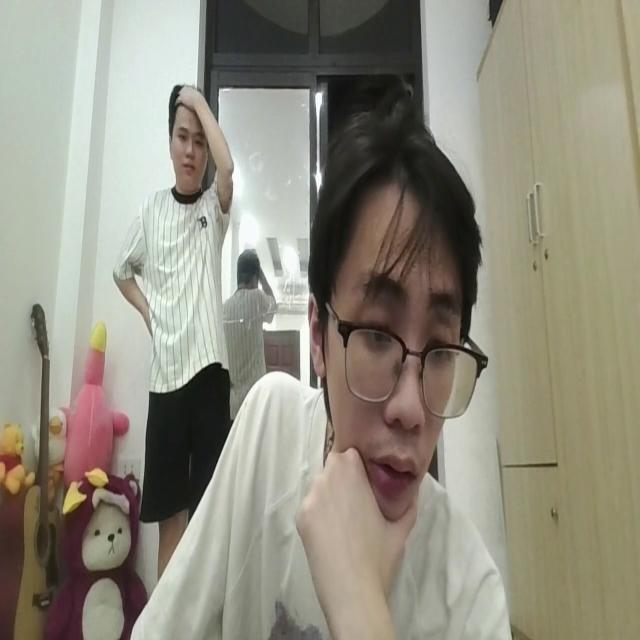extra_person: (108, 78, 238, 443)
student: (117, 108, 513, 640)
